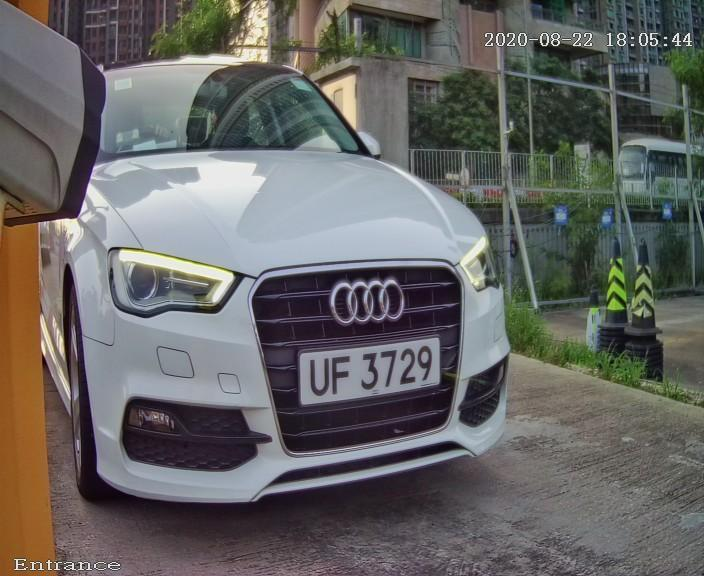Car: (4, 11, 560, 543)
License Plate: (274, 314, 475, 419)
